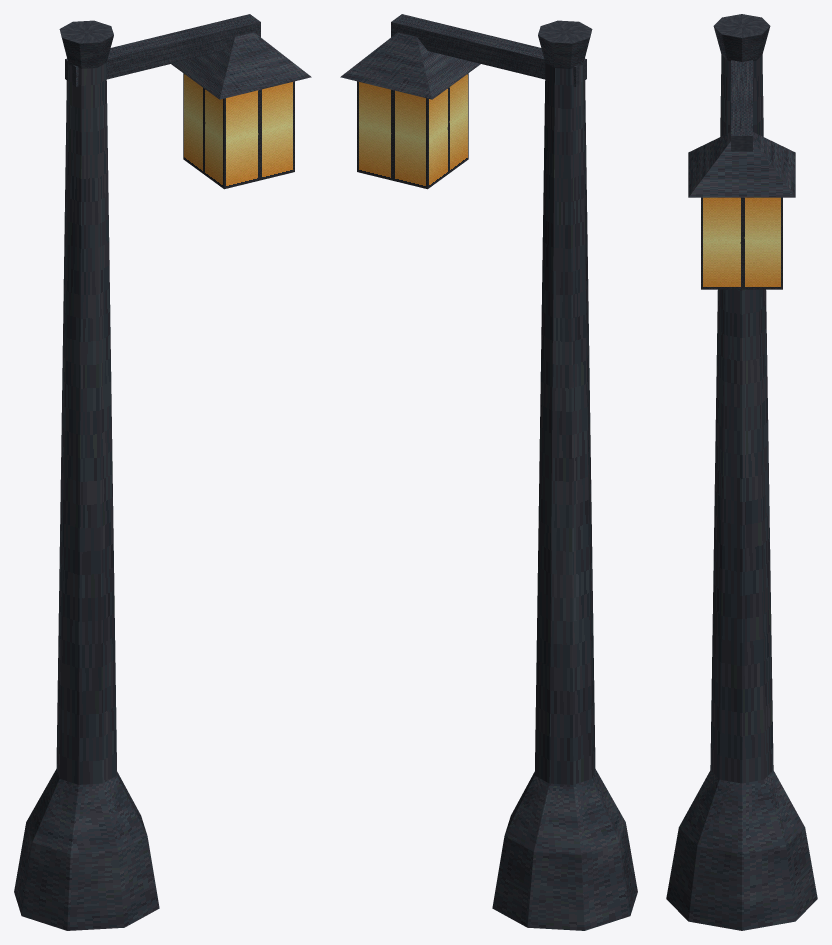
File: poste_de_lampiao_medieval.glb
3 views of the same model, side by side, from view 1: azimuth 30°, elevation 25°; view 2: azimuth 150°, elevation 25°; view 3: azimuth 270°, elevation 25° (orthographic).
Parts seen in each view (by area): view 1: poste_de_lampiao_medieval; view 2: poste_de_lampiao_medieval; view 3: poste_de_lampiao_medieval.
Boxes of the visible parts, x1=… form: poste_de_lampiao_medieval: x1=14, y1=14, x2=311, y2=930; poste_de_lampiao_medieval: x1=340, y1=14, x2=637, y2=930; poste_de_lampiao_medieval: x1=666, y1=14, x2=817, y2=930.
Bounding box in the file's own units: 0.9697 × 3.05 × 0.48.
Materials: 1 (1 with a texture image).
